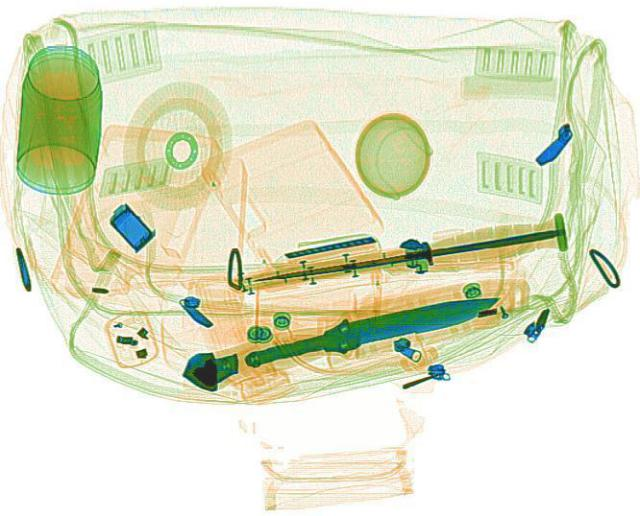Knife: (245, 212, 570, 298), (238, 282, 504, 374)
